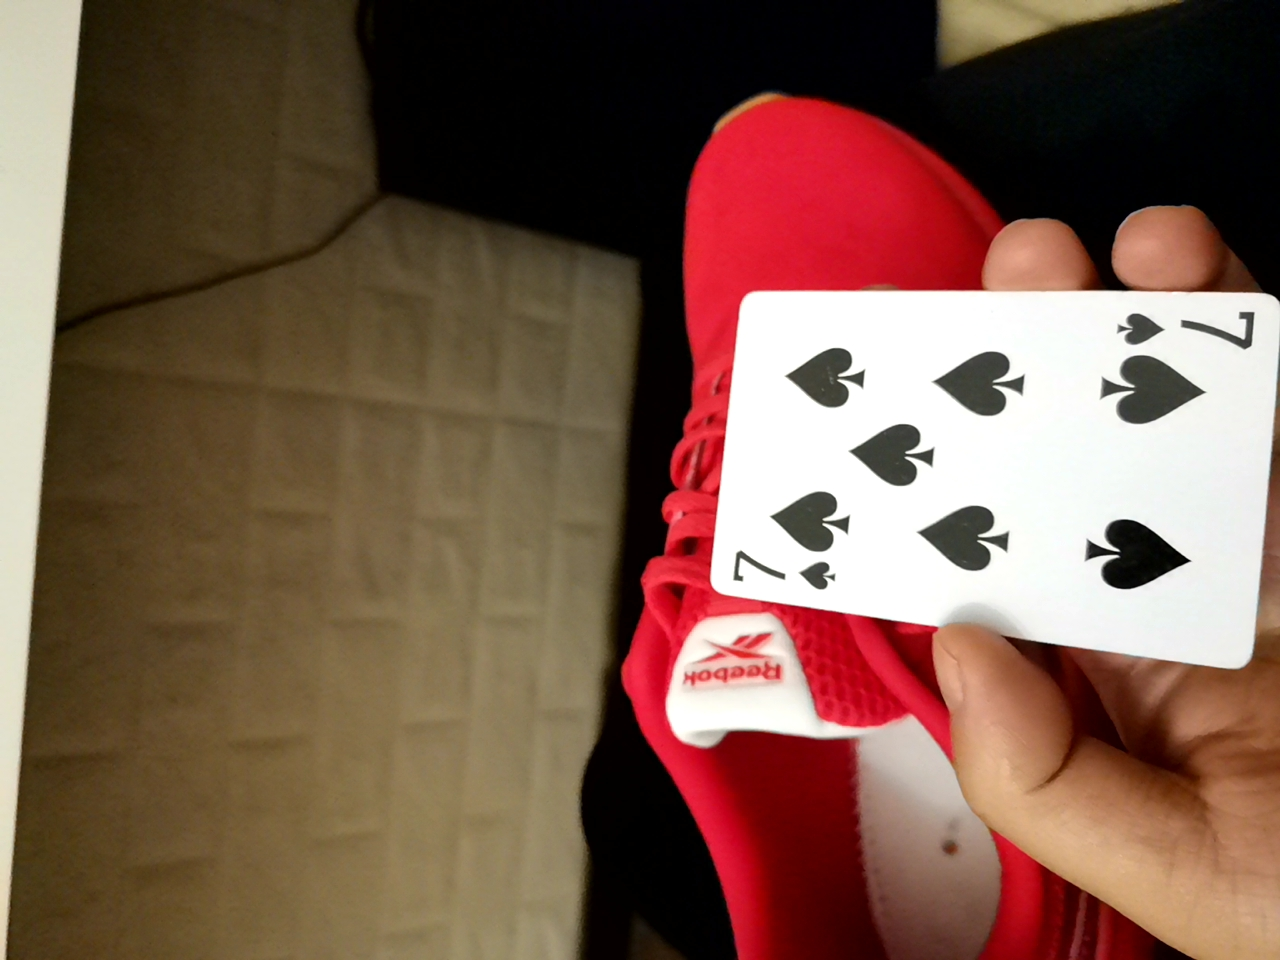ht 7: (689, 286, 1247, 684)
